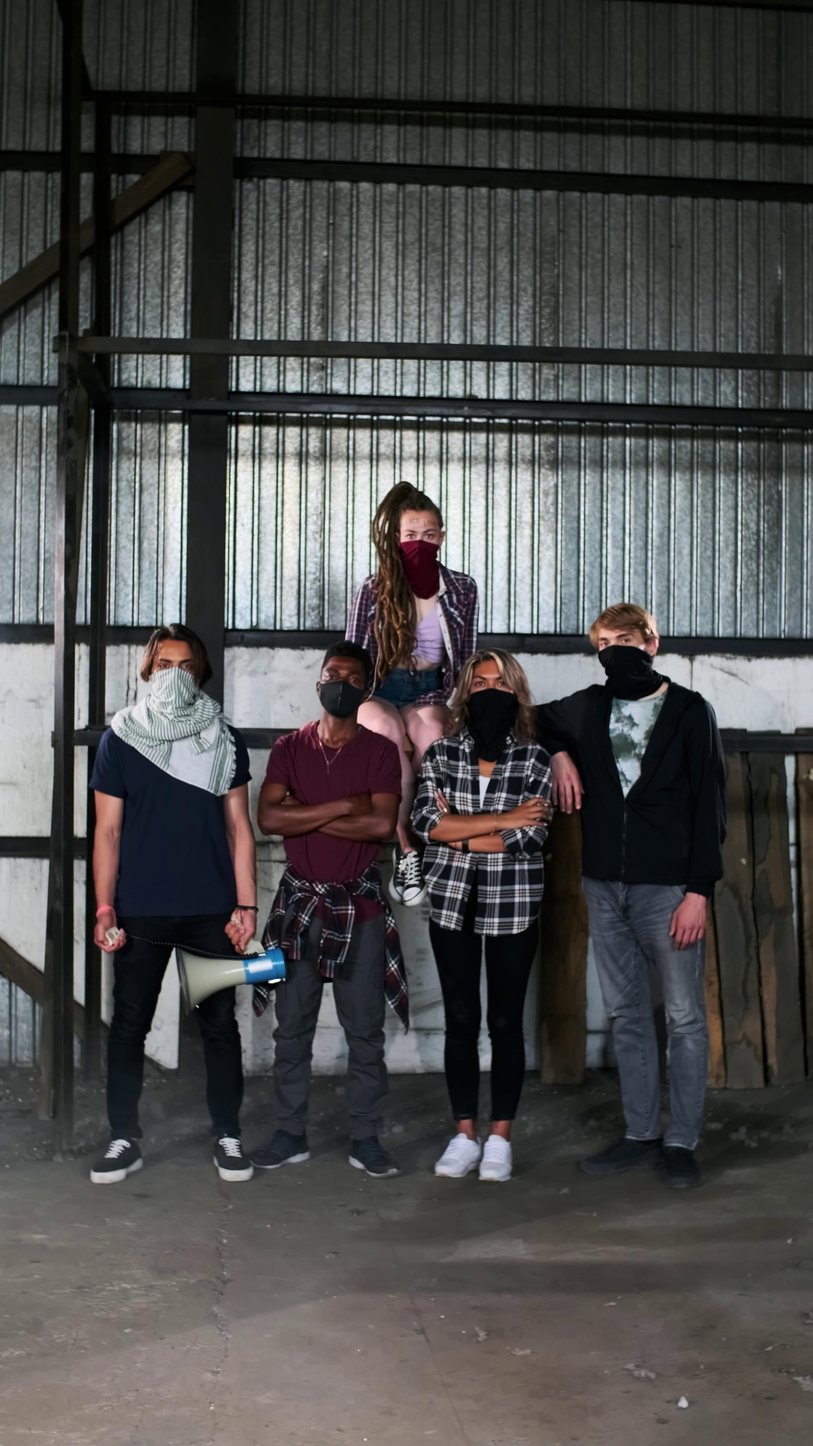mask: (464, 687, 520, 764), (596, 644, 665, 702), (144, 667, 202, 721), (399, 539, 442, 601), (316, 679, 367, 718)
person: (528, 600, 728, 1191), (85, 622, 262, 1192), (245, 640, 411, 1181), (410, 647, 558, 1183), (341, 481, 481, 909)
